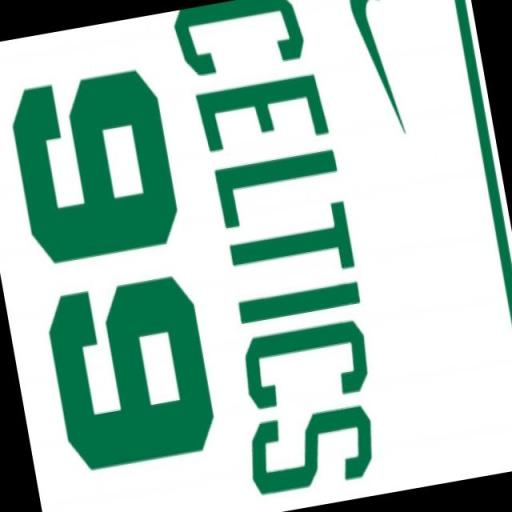Nike: (347, 0, 411, 156)
